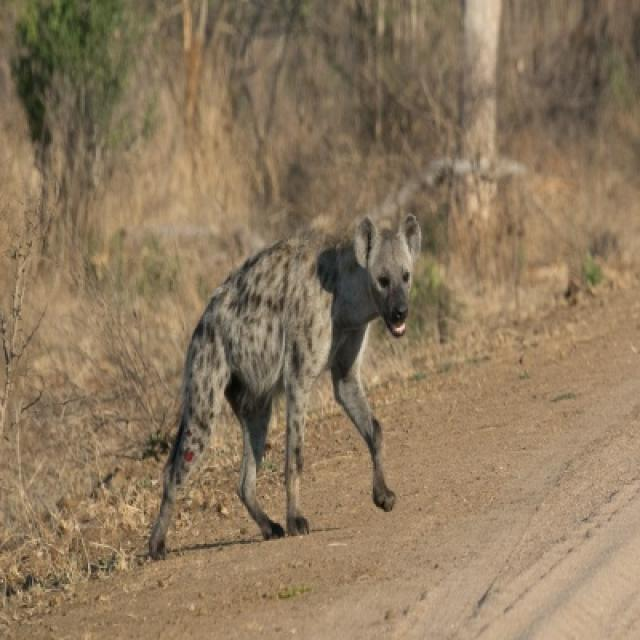hyena: (149, 213, 421, 557)
